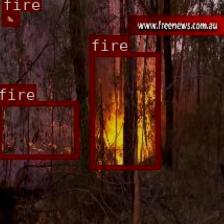fire: (89, 51, 159, 169), (0, 100, 78, 158), (2, 10, 18, 26)
